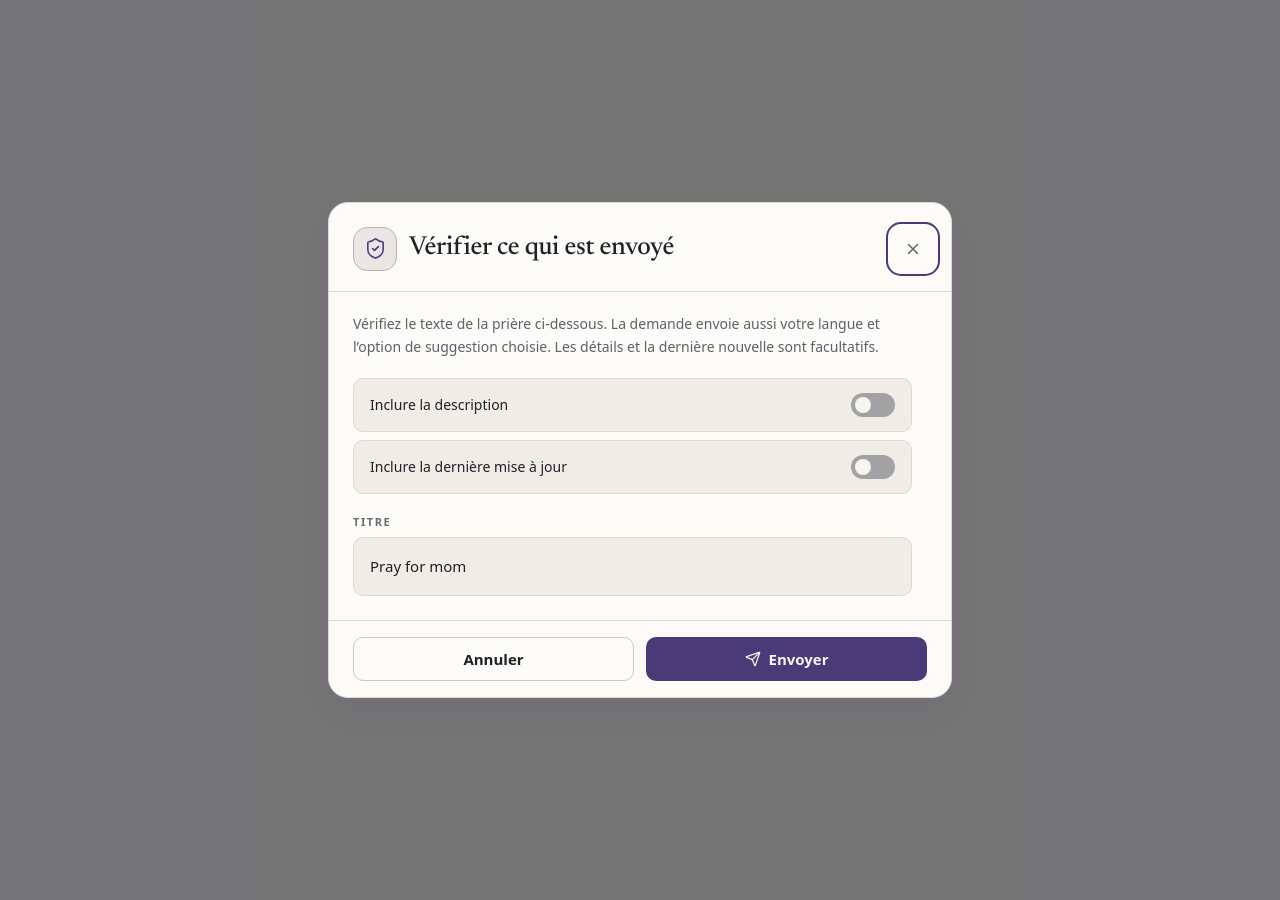
AiOutgoingPreview › reveals the latest update as its own opt-in field, separate from the description
The width and height of the screenshot is (1280, 900).
Expected: the text "She had surgery today" is not shown
// Opting into the update reveals ONLY the update, not the description.
What coordinates should you click on to do the following:
click the switch named "Inclure la dernière mise à jour"
I would click on:
 (873, 467)
Its box is [839, 443, 907, 491].
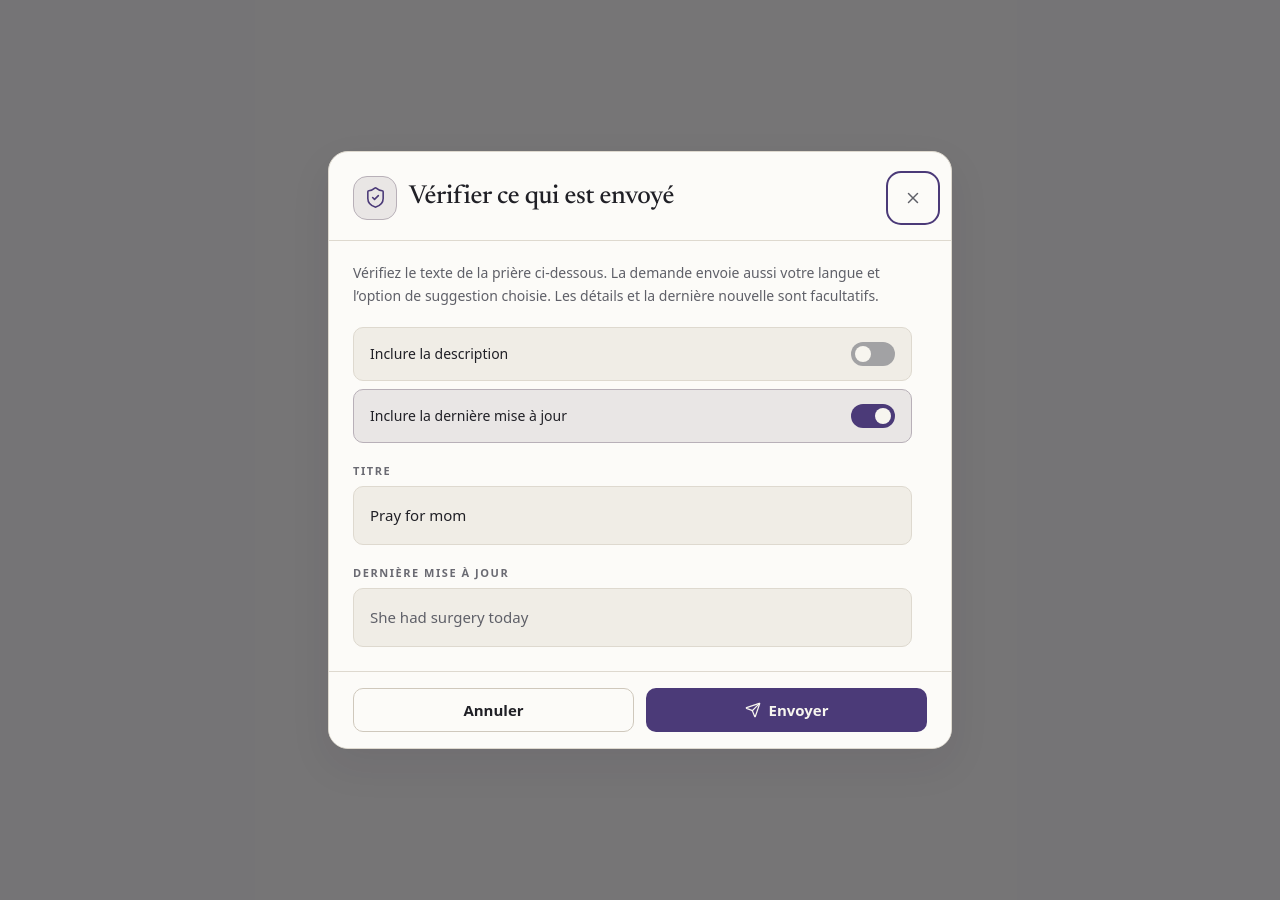
Now the text "She had surgery today" is shown, box [353, 588, 912, 647]
